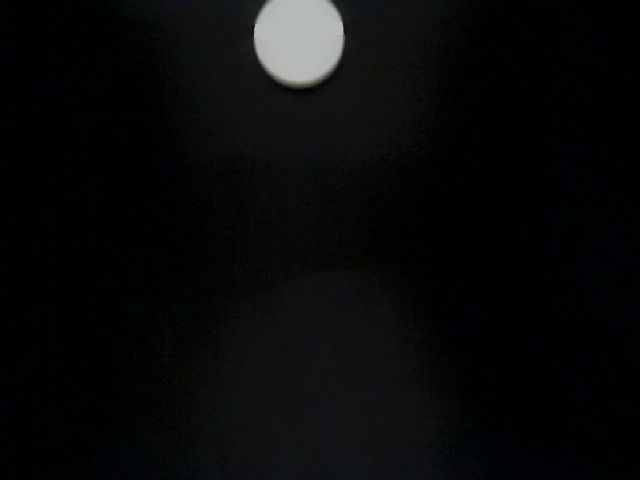CYLJ: (255, 291, 612, 480)
